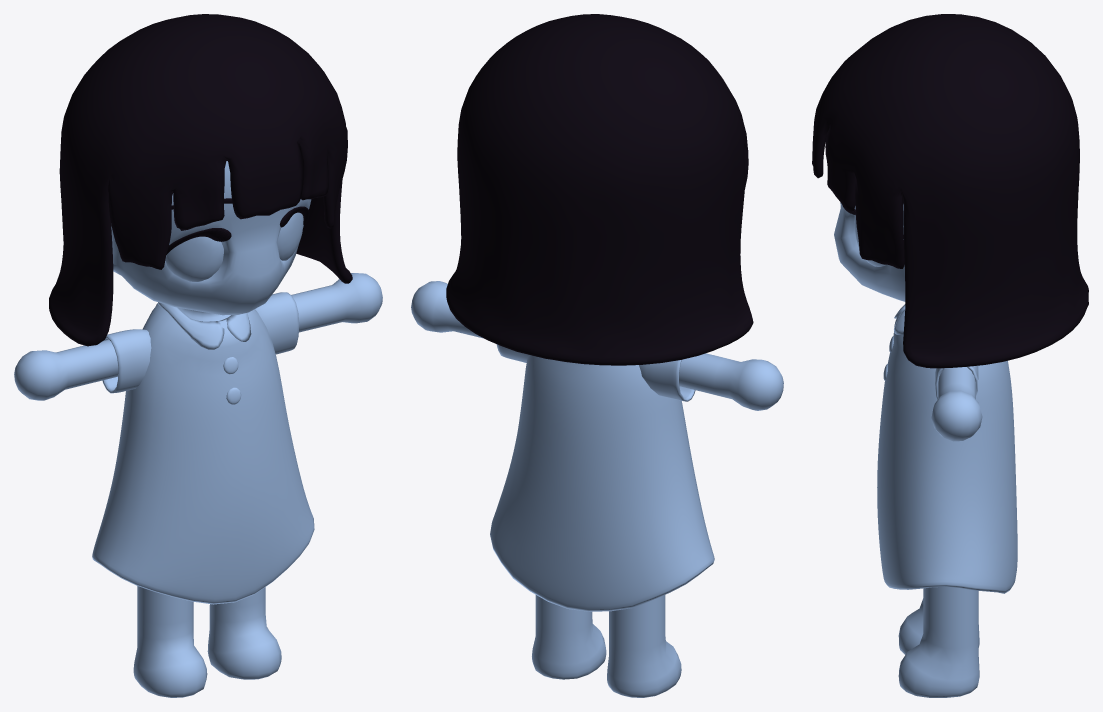
File: Maru 1.fbx
3 renders of one model, left to right at view 1: azimuth 30°, elevation 25°; view 2: azimuth 150°, elevation 25°; view 3: azimuth 270°, elevation 25°, orthographic.
Parts seen in each view (by area): view 1: LP_Hair, LP_DRESS, LP_base, LP_EYE, LP_EyeLeash; view 2: LP_Hair, LP_DRESS, LP_base; view 3: LP_Hair, LP_DRESS, LP_base.
Boxes of the visible parts, x1,y1,x2,y2 form: LP_Hair: (49, 14, 352, 346); LP_DRESS: (92, 292, 314, 604); LP_base: (14, 161, 382, 697); LP_EYE: (165, 212, 303, 281); LP_EyeLeash: (166, 198, 309, 254); LP_Hair: (446, 14, 753, 365); LP_DRESS: (490, 344, 714, 611); LP_base: (411, 281, 783, 697); LP_Hair: (812, 14, 1088, 368); LP_DRESS: (877, 304, 1017, 593); LP_base: (834, 202, 982, 697).
Bounding box in the file's own units: 340 × 577 × 226.
